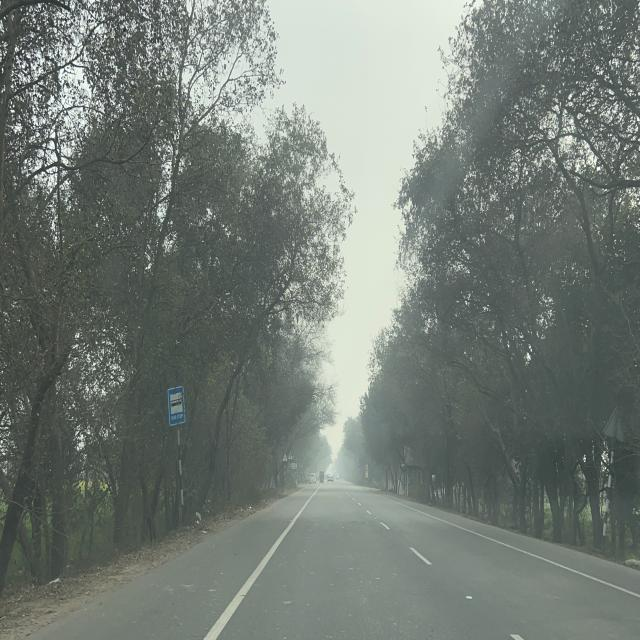INFORMATION: (168, 384, 186, 425)
